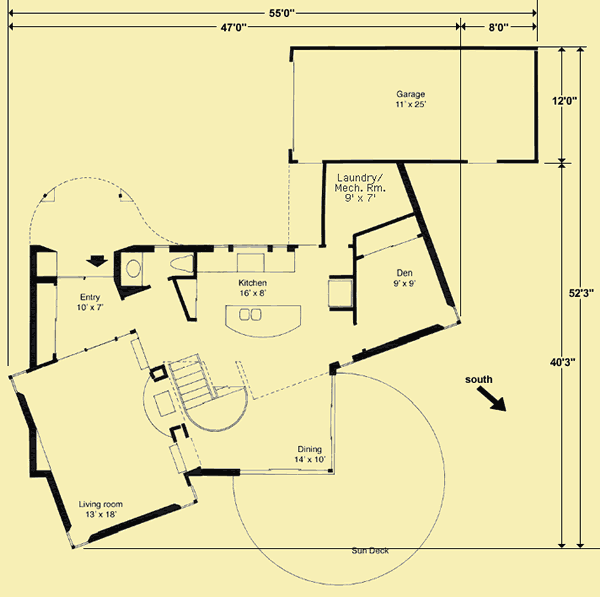kitchen bar: (221, 302, 310, 340)
large sink: (167, 253, 196, 275)
small sink: (117, 251, 145, 288)
stairs: (167, 354, 219, 411)
windows: (208, 238, 293, 253), (462, 152, 505, 172)
